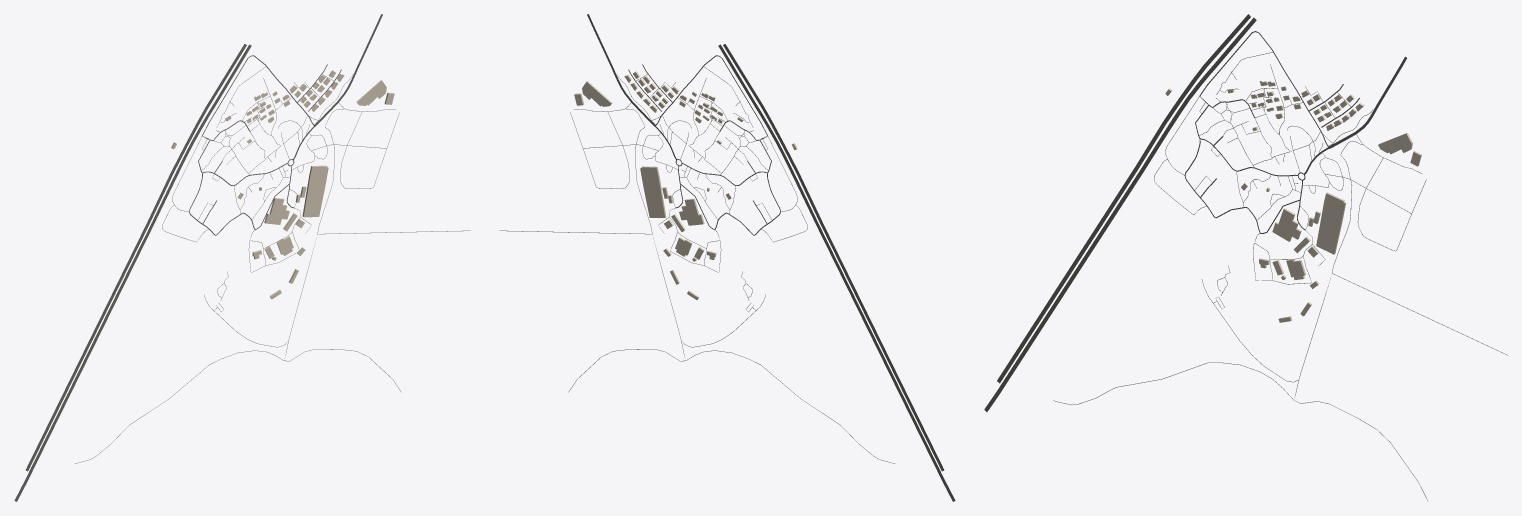
Rendered from historic-palestine-04_23_3463_3171.glb.
3 views of the same model, side by side, from view 1: azimuth 30°, elevation 25°; view 2: azimuth 150°, elevation 25°; view 3: azimuth 330°, elevation 25° (orthographic). The views are drawn at different scales.
Visible parts, largest first — view 1: Road 4.001, Road 4, Building_; view 2: Road 4.001, Road 4, Building_; view 3: Road 4.001, Road 4, Building_, Building_.043.
Boxes of the visible parts, x1,y1,x2,y2 form: Road 4.001: (14,44,251,501); Road 4: (25,44,246,471); Building_: (302,165,328,217); Road 4.001: (718,44,955,501); Road 4: (723,44,944,471); Building_: (640,166,666,217); Road 4.001: (984,17,1256,411); Road 4: (997,14,1250,383); Building_: (1316,192,1346,254); Building_.043: (1272,208,1301,241).
Size of the model in its own units: 1759 by 1483 by 8.7.
